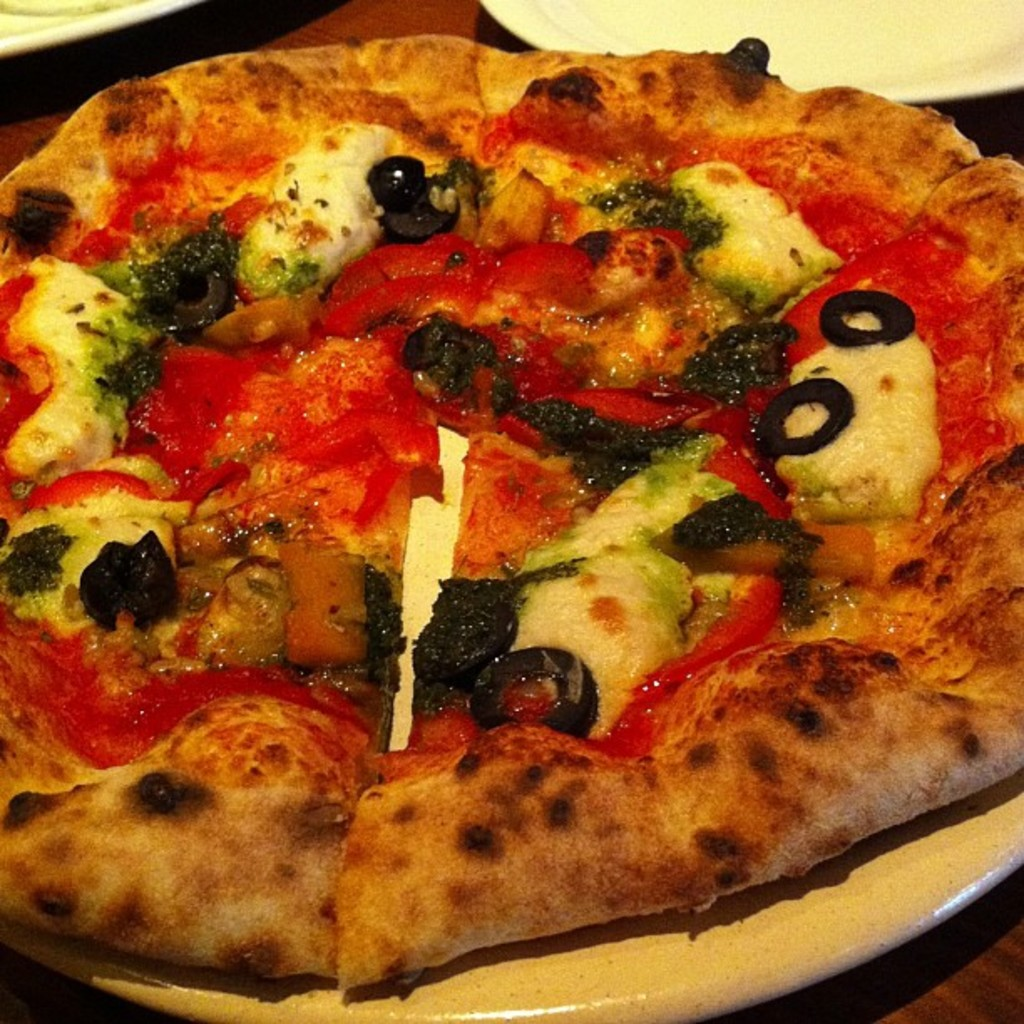Pizza: (0, 38, 1022, 997)
